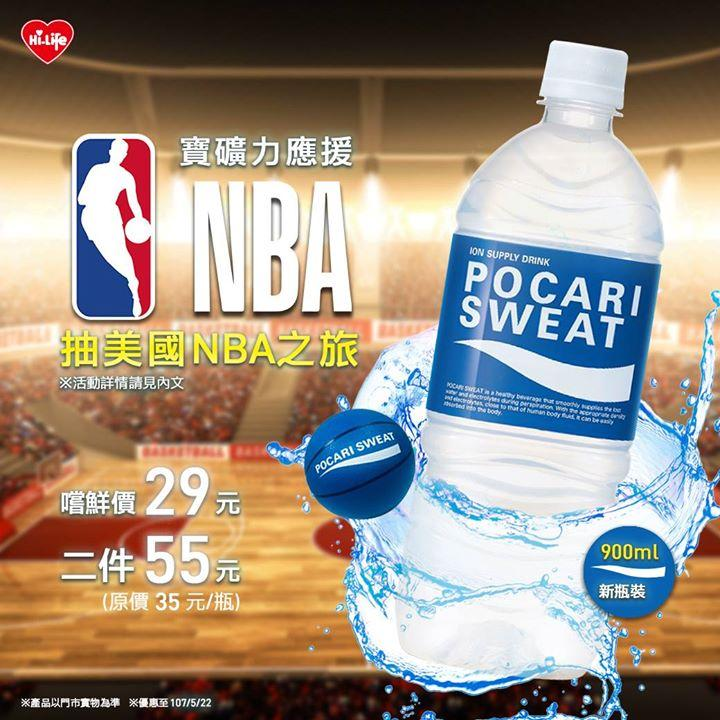POCARI SWEAT: (413, 38, 641, 517)
